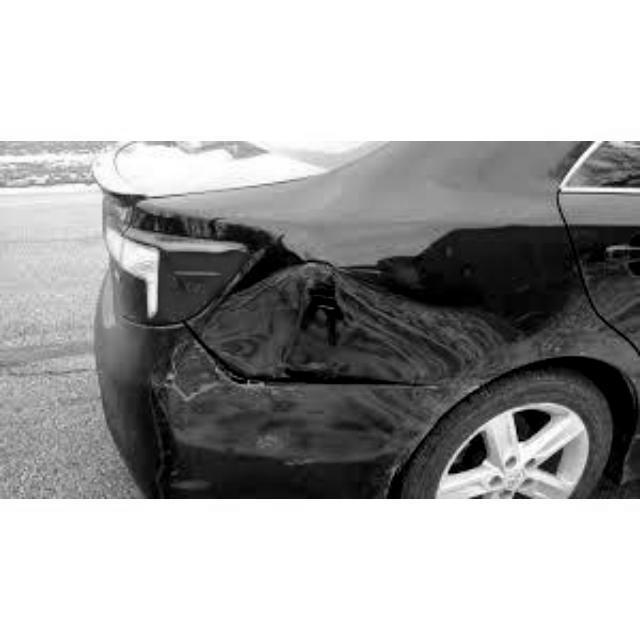quaterpanel-dent: (230, 194, 601, 418)
rear-bumper-dent: (48, 376, 491, 497)
